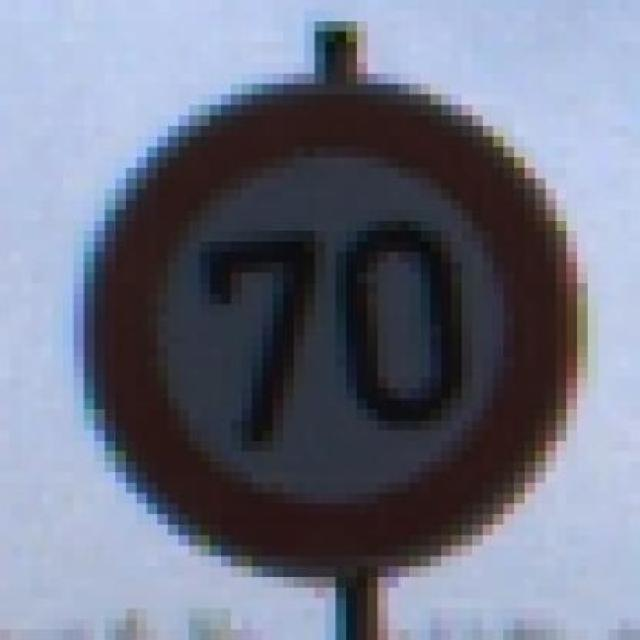forb_speed_over_70: (86, 82, 574, 568)
